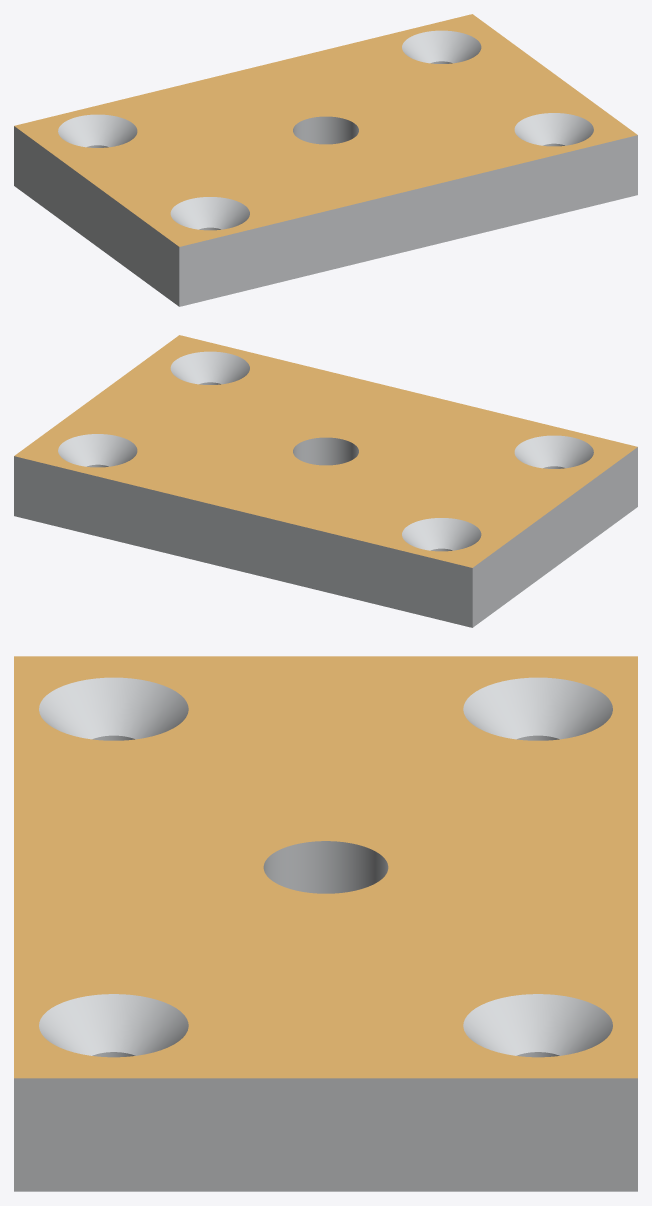
File: part_base_plate.glb
3 views of the same model, one above another, from view 1: azimuth 30°, elevation 25°; view 2: azimuth 150°, elevation 25°; view 3: azimuth 270°, elevation 25° (orthographic). The views are drawn at different scales.
Visible parts, largest first — view 1: Base plate; view 2: Base plate; view 3: Base plate.
Part boxes in pixels (x1,y1,x2,y2): Base plate: [14, 14, 637, 306]; Base plate: [14, 335, 637, 627]; Base plate: [14, 656, 637, 1191].
Bounding box in the file's own units: 0.08 × 0.01 × 0.05.
